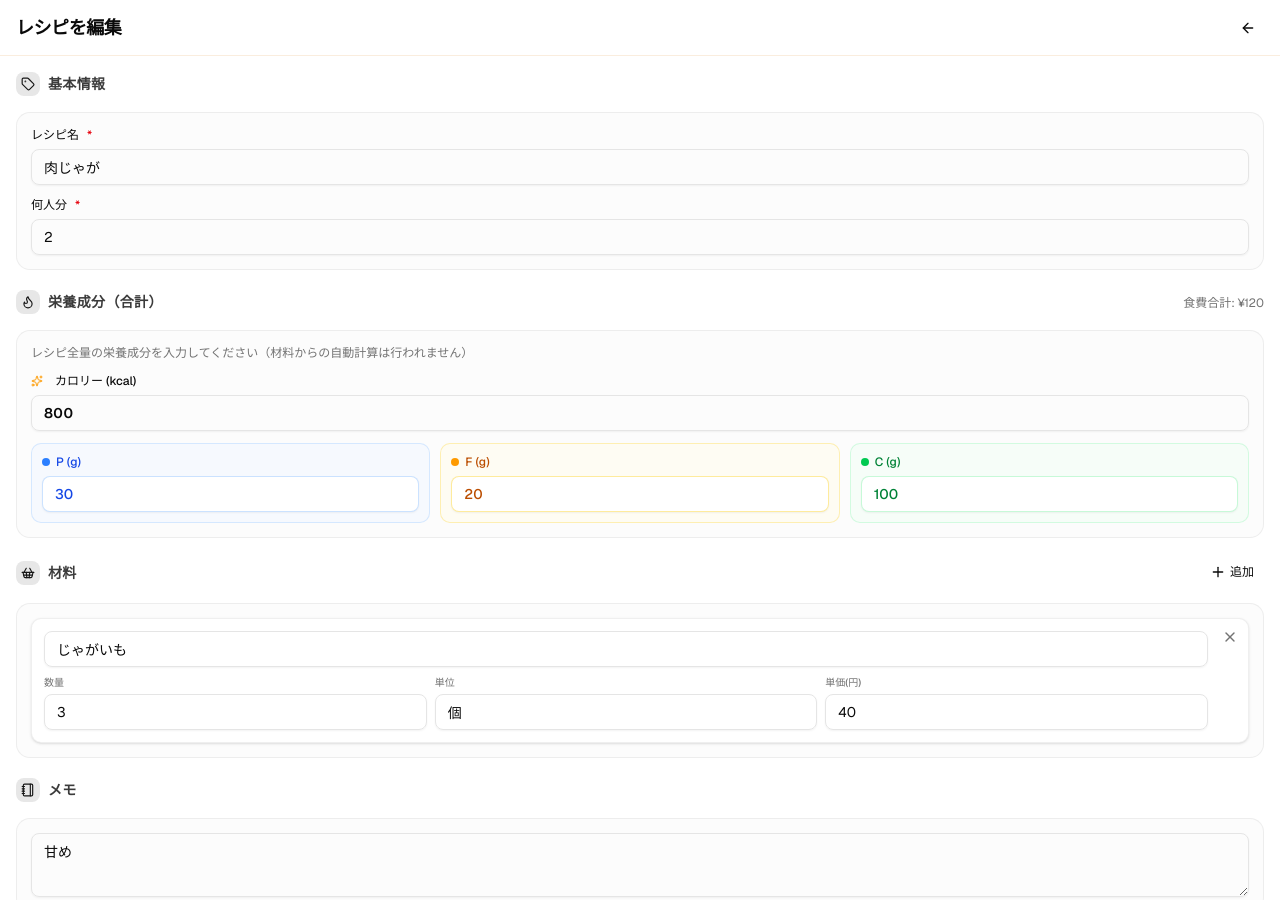
Test: RecipeFormView (S-05 レシピ登録/編集) › 戻るときの未保存の確認(G-8) › G-8: 入力を変えて戻ると「変更を破棄しますか？」が出て、「編集を続ける」なら入力が残る
Type "改" into the field labelled "レシピ名 *".
click(640, 167); type("改")  # box [31, 149, 1249, 185]
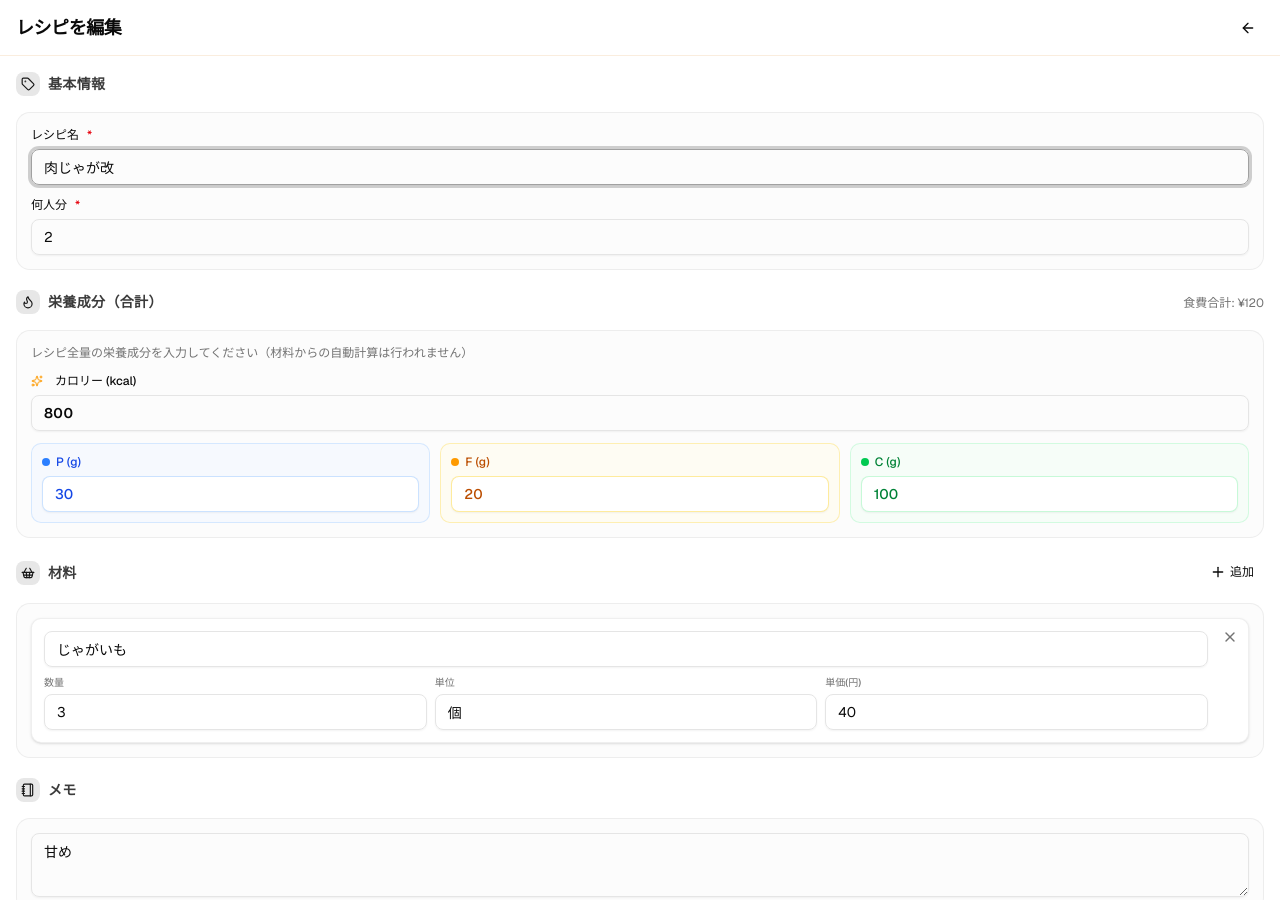
Click the button named "レシピの一覧に戻る".
click(1248, 28)  # box [1232, 12, 1264, 44]
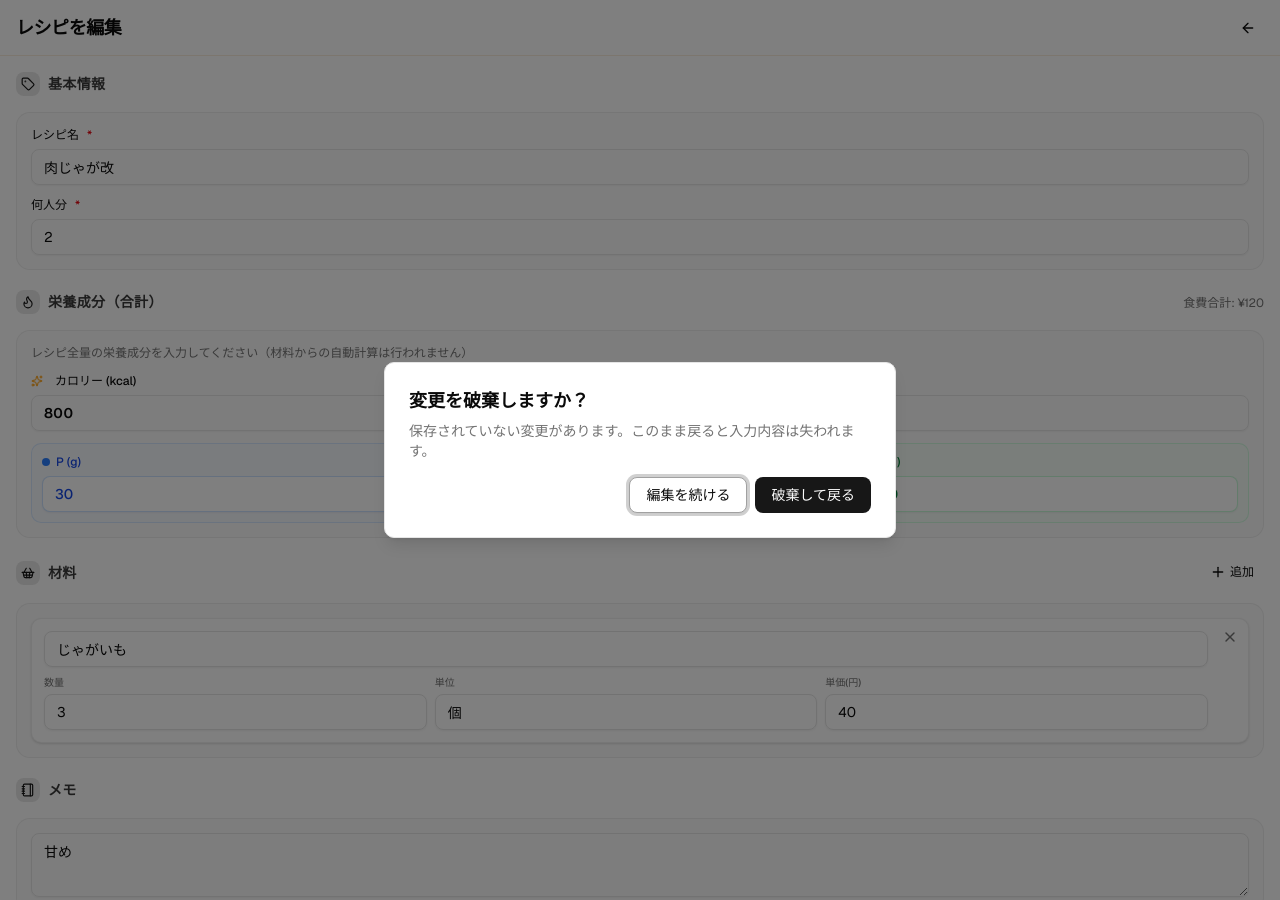
Click the button "編集を続ける".
click(688, 495)  # box [629, 477, 747, 513]
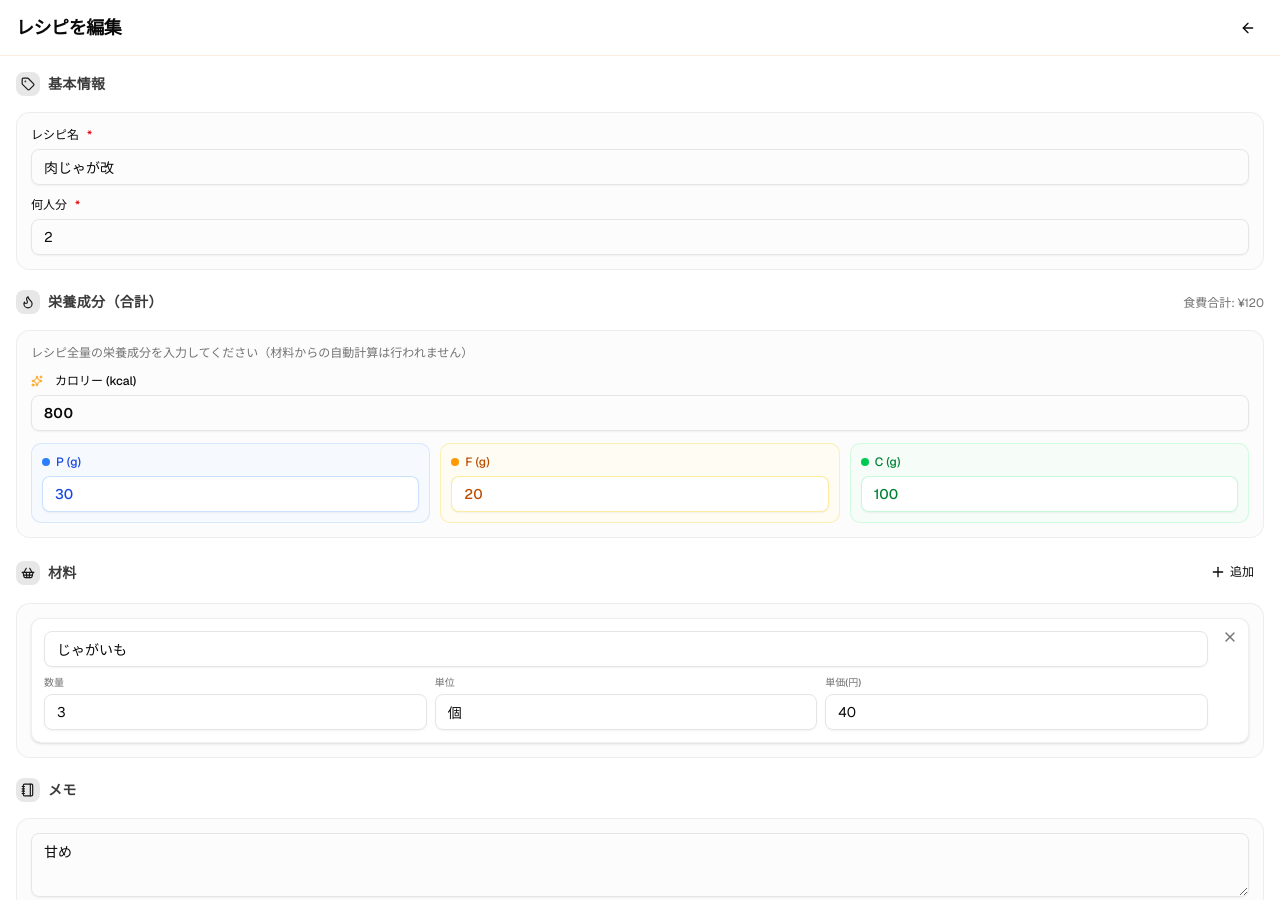
Now the field labelled "レシピ名 *" holds "肉じゃが改", box [31, 149, 1249, 185]
Now the dialog is gone
